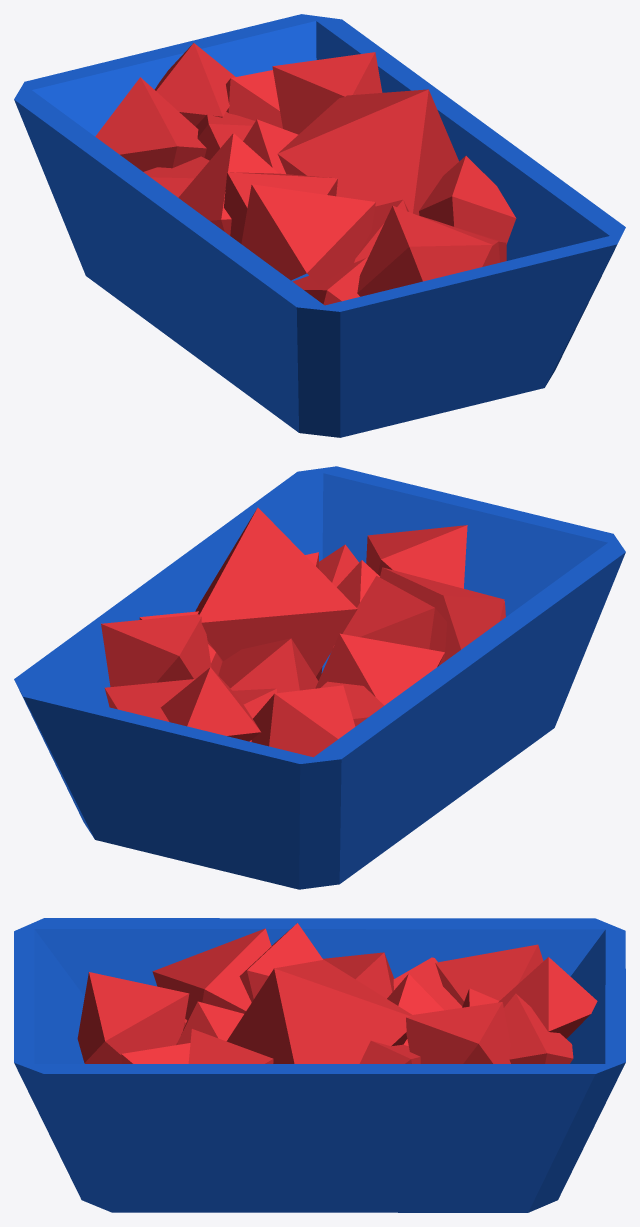
The model's file is Plato02.fbx.
3 views of the same model, one above another, from view 1: azimuth 30°, elevation 25°; view 2: azimuth 150°, elevation 25°; view 3: azimuth 270°, elevation 25° (orthographic). The views are drawn at different scales.
Parts seen in each view (by area): view 1: Plato02; view 2: Plato02; view 3: Plato02.
Boxes of the visible parts, left/top/right/bottom form: Plato02: left=14, top=14, right=625, bottom=437; Plato02: left=14, top=466, right=625, bottom=889; Plato02: left=14, top=918, right=625, bottom=1212.
Size of the model in its own units: 12.27 by 8.21 by 20.34.
